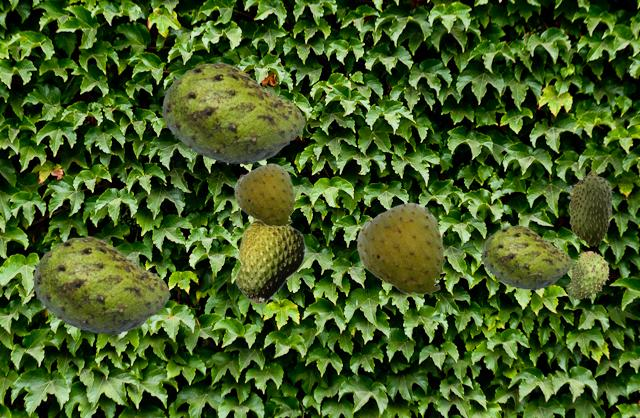guyabano: (161, 62, 304, 164), (32, 236, 169, 334), (355, 202, 445, 296), (234, 220, 305, 304), (481, 225, 571, 289), (233, 163, 295, 227), (567, 168, 613, 245), (566, 251, 608, 299)
